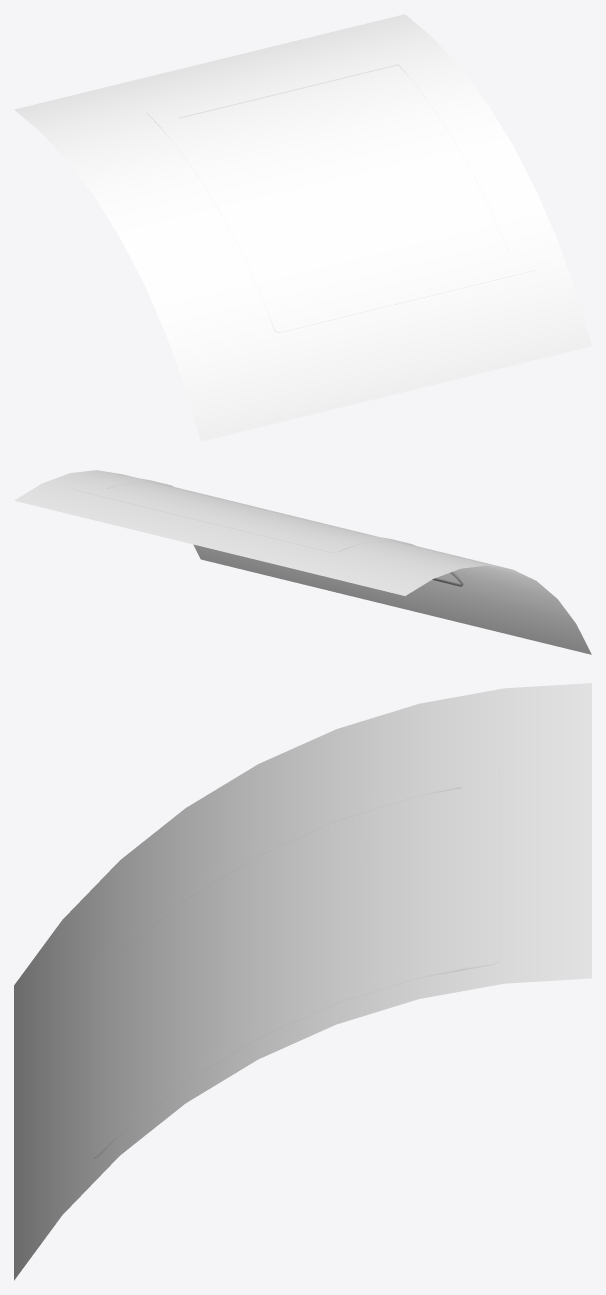
File: grd_F_F_3.dae
3 views of the same model, one above another, from view 1: azimuth 30°, elevation 25°; view 2: azimuth 150°, elevation 25°; view 3: azimuth 270°, elevation 25° (orthographic). The views are drawn at different scales.
Parts seen in each view (by area): view 1: grass_1_0, bricks3_0_0; view 2: grass_1_0, bricks3_0_0; view 3: grass_1_0, bricks3_0_0.
Boxes of the visible parts, left/top/right/bottom form: grass_1_0: left=14, top=14, right=591, bottom=441; bricks3_0_0: left=146, top=46, right=537, bottom=332; grass_1_0: left=14, top=470, right=591, bottom=654; bricks3_0_0: left=73, top=476, right=463, bottom=586; grass_1_0: left=14, top=683, right=591, bottom=1280; bricks3_0_0: left=92, top=764, right=499, bottom=1158.
Size of the model in its own units: 512 by 244 by 423.
Materials: 2 (1 with a texture image).
